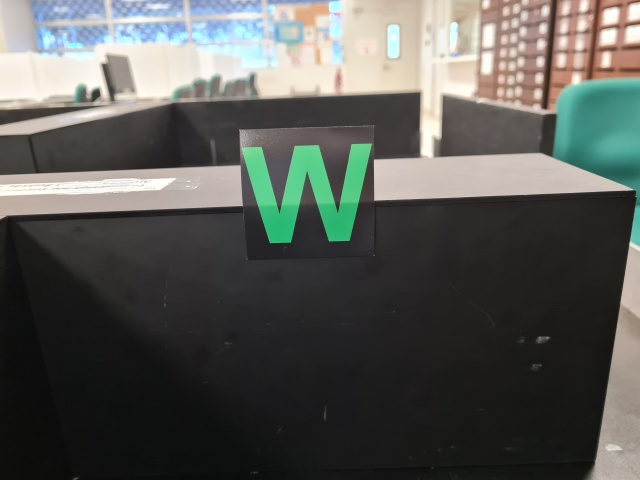alphabet_w: (238, 125, 380, 261)
